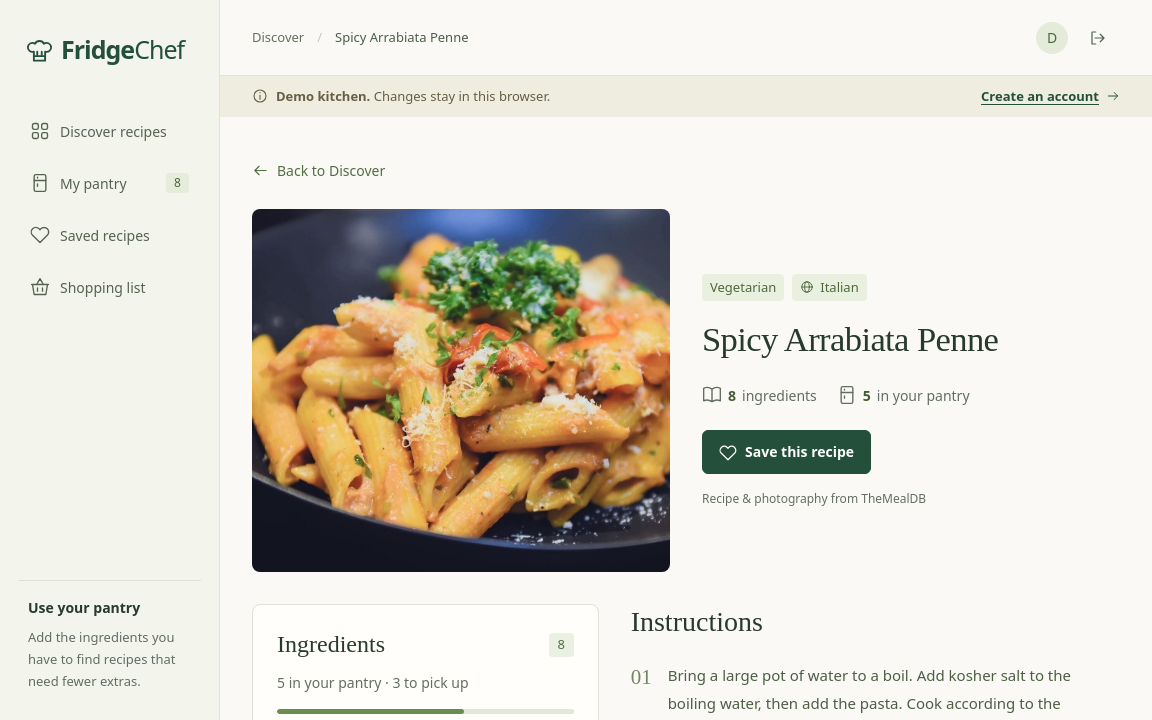
Test case: uses the loaded recipe name in the breadcrumb and links back to discovery
Expected: the heading "Spicy Arrabiata Penne" is shown, [702,320,998,358]
What coordinates should you click on to do the following:
click the link "Discover"
I would click on:
 (278, 37)
Its box is [252,28,304,46].
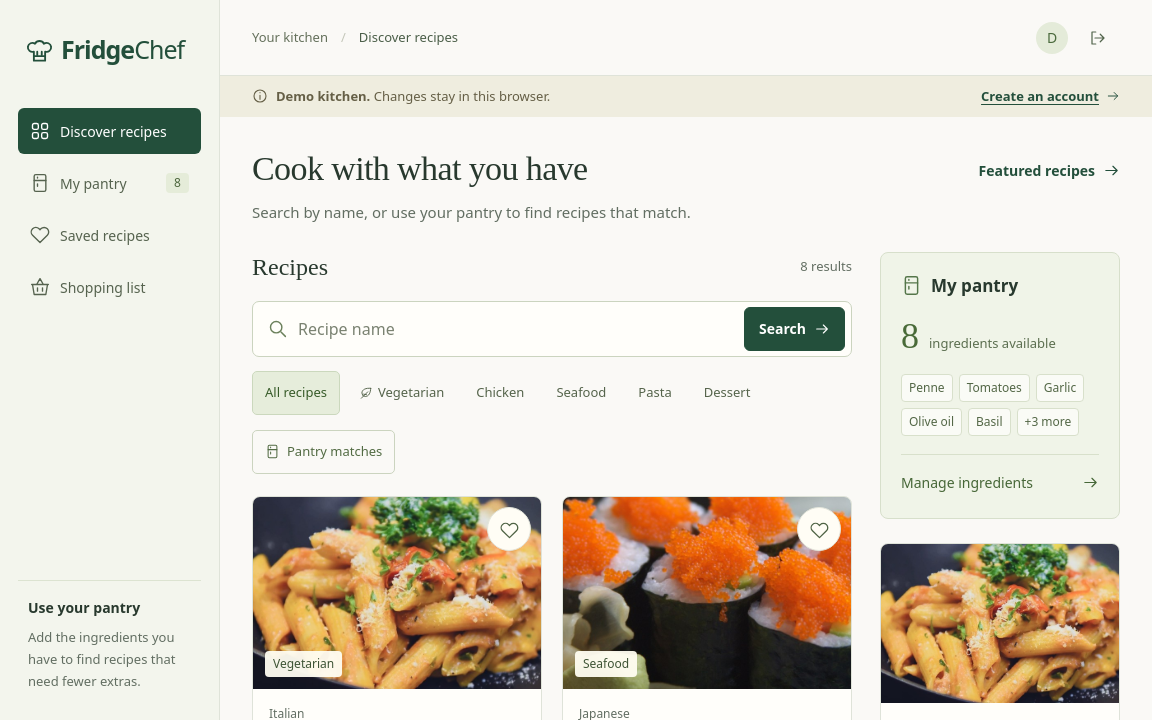
Now the heading "Recipes" is shown, box [252,252,328,283]
